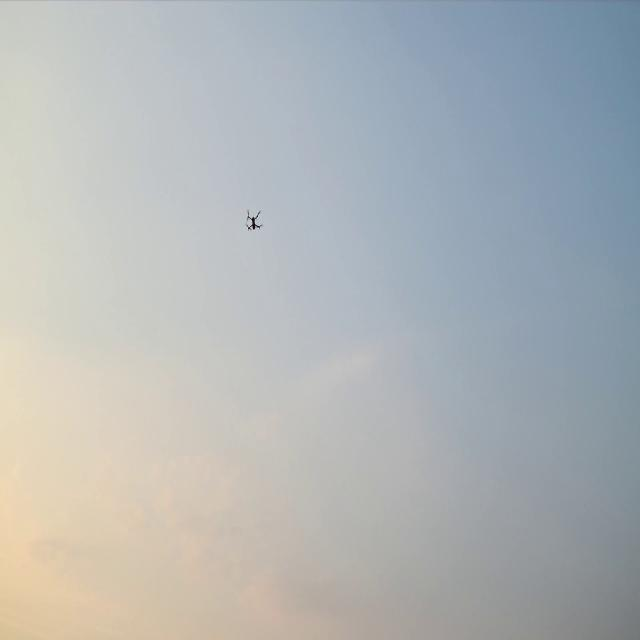UAV: (248, 212, 260, 229)
